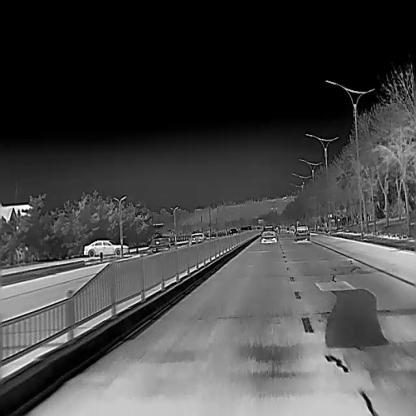car: (83, 238, 128, 257), (145, 234, 178, 255), (293, 222, 311, 241), (260, 223, 278, 242), (188, 231, 206, 245)
